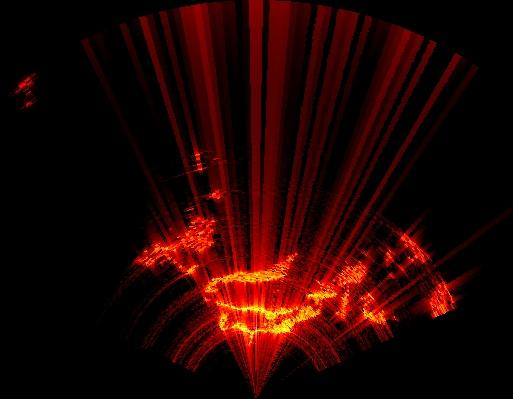shipwreck: (216, 262, 367, 343), (202, 254, 296, 299), (136, 220, 213, 274), (362, 293, 394, 324), (428, 280, 454, 316)
